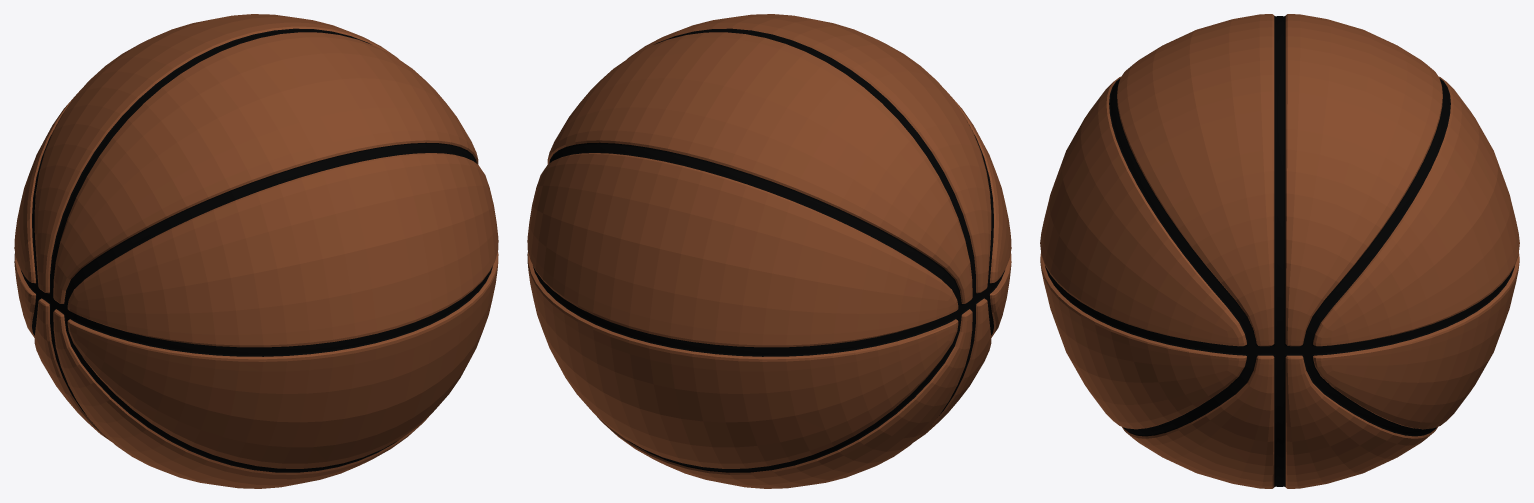
The model's file is basket_ball.glb.
3 renders of one model, left to right at view 1: azimuth 30°, elevation 25°; view 2: azimuth 150°, elevation 25°; view 3: azimuth 270°, elevation 25°, orthographic.
Parts seen in each view (by area): view 1: Sphere; view 2: Sphere; view 3: Sphere.
Part boxes in pixels (bbox=[...]): Sphere: bbox=[14, 14, 498, 488]; Sphere: bbox=[527, 14, 1011, 488]; Sphere: bbox=[1040, 14, 1519, 488].
Bounding box in the file's own units: 0.4904 × 0.4879 × 0.4928.
